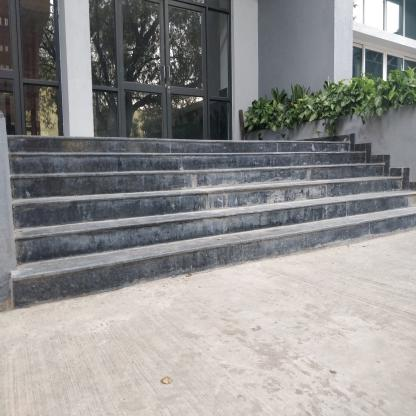stairs: (45, 145, 363, 264)
